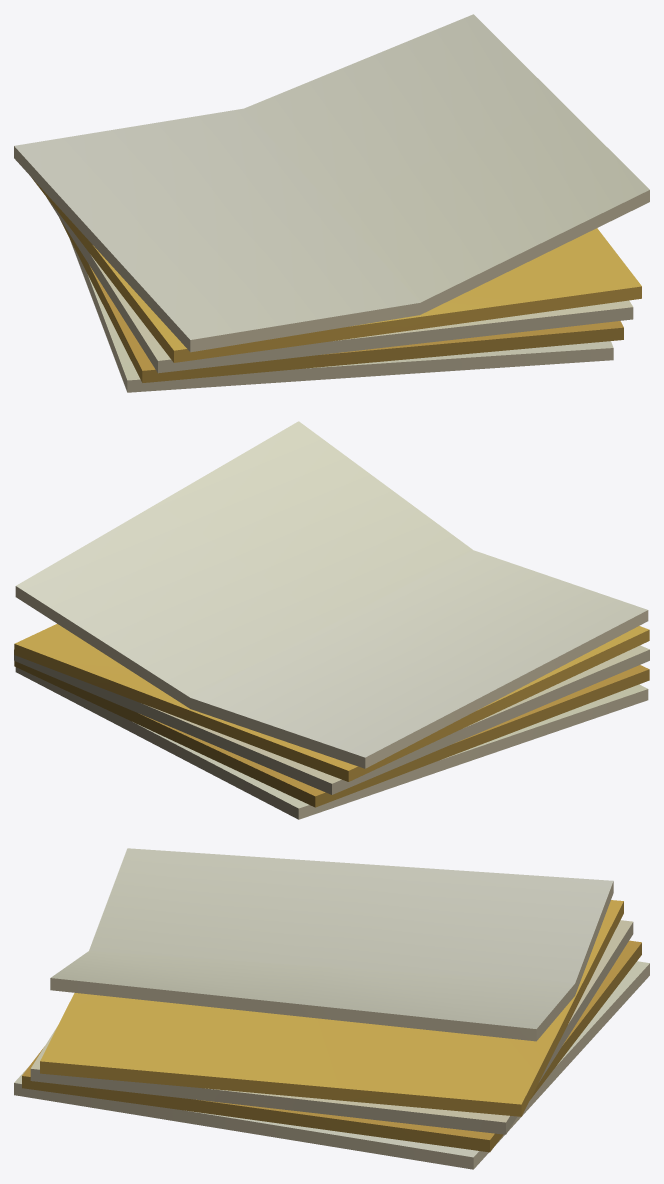
The model's file is ph_item_gold_leaf.glb.
The picture shows the model from 3 angles, top to bottom: view 1: azimuth 30°, elevation 25°; view 2: azimuth 150°, elevation 25°; view 3: azimuth 270°, elevation 25°; orthographic projection. The views are drawn at different scales.
Visible parts, largest first — view 1: ph_item_gold_leaf; view 2: ph_item_gold_leaf; view 3: ph_item_gold_leaf.
Part boxes in pixels (x1,y1,x2,y2): ph_item_gold_leaf: (14, 14, 649, 392); ph_item_gold_leaf: (14, 421, 649, 819); ph_item_gold_leaf: (14, 848, 649, 1169).
Bounding box in the file's own units: 0.2067 × 0.0516 × 0.2067.
